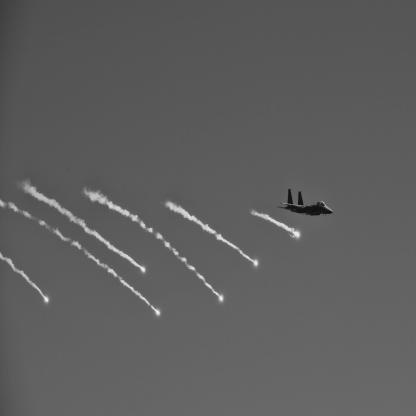F15: (279, 190, 335, 217)
